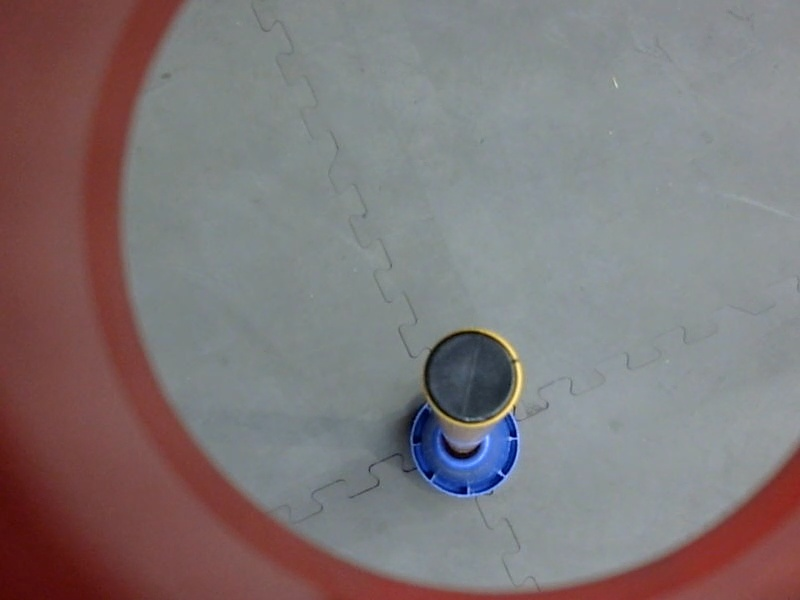tip: (416, 322, 528, 432)
